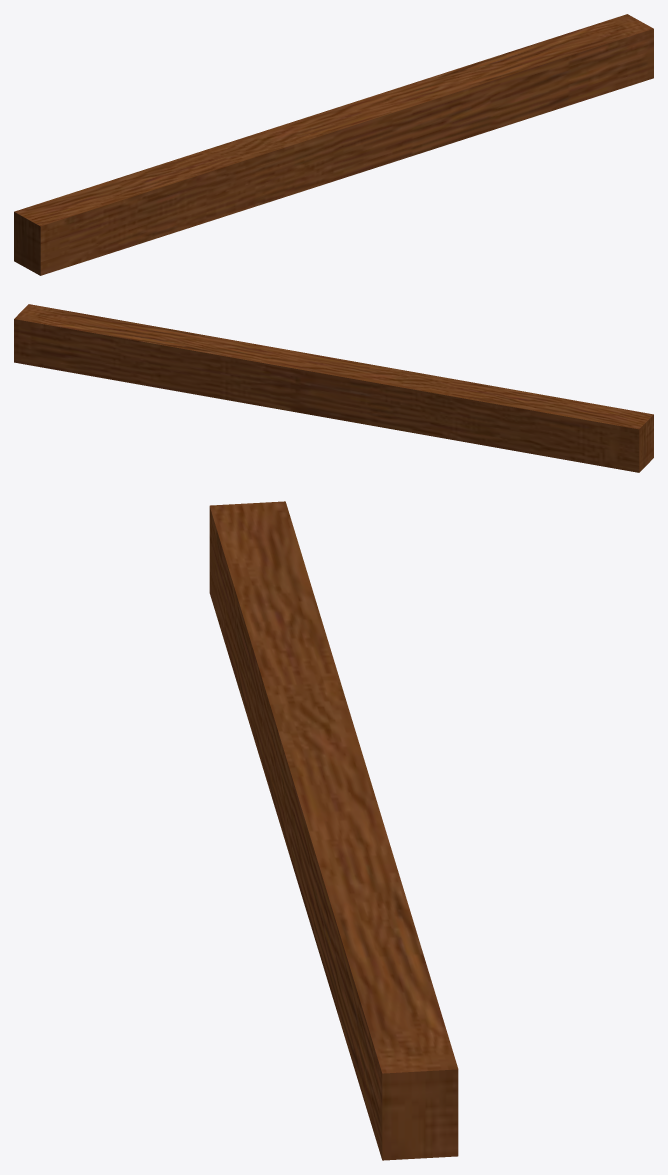
Rendered from frame__lower_rail_pos.glb.
The picture shows the model from 3 angles, top to bottom: view 1: azimuth 30°, elevation 25°; view 2: azimuth 150°, elevation 25°; view 3: azimuth 270°, elevation 25°; orthographic projection. The views are drawn at different scales.
Visible parts, largest first — view 1: geometry_0; view 2: geometry_0; view 3: geometry_0.
Part boxes in pixels (x1,y1,x2,y2): geometry_0: (14,14,653,275); geometry_0: (14,304,653,472); geometry_0: (209,501,458,1160).
Size of the model in its own units: 0.7051 by 0.05 by 0.1297.
1 material, 1 textured.
